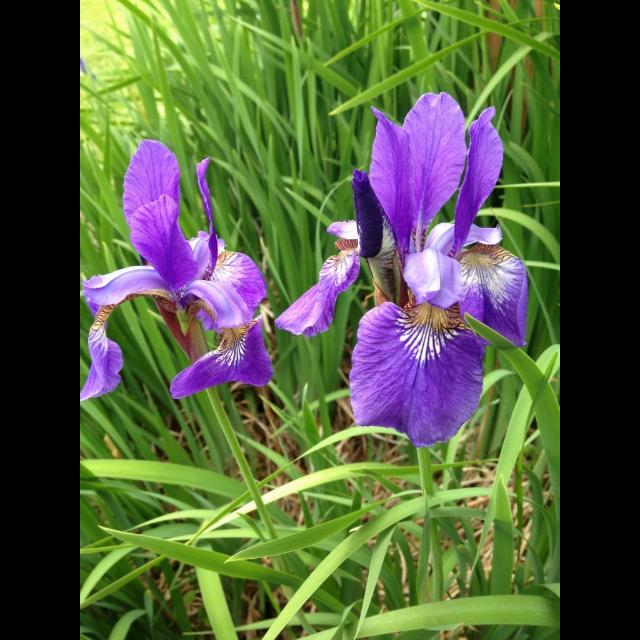Flower: (340, 108, 530, 450), (80, 140, 276, 402)
